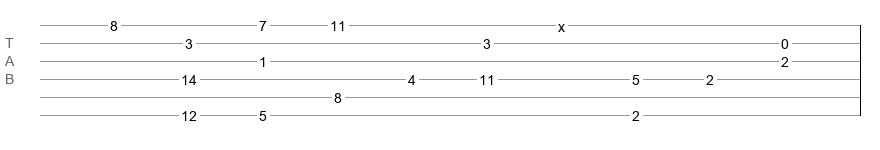0: (781, 36, 789, 46)
1: (259, 54, 267, 64)
11: (330, 18, 346, 28), (479, 72, 495, 82)
12: (181, 108, 197, 118)
14: (181, 72, 197, 82)
2: (632, 108, 640, 118), (706, 72, 714, 82), (781, 54, 789, 64)
3: (185, 36, 193, 46), (483, 36, 491, 46)
4: (408, 72, 416, 82)
5: (259, 108, 267, 118), (632, 72, 640, 82)
7: (259, 18, 267, 28)
8: (110, 18, 118, 28), (334, 90, 342, 100)
x: (558, 19, 565, 27)
